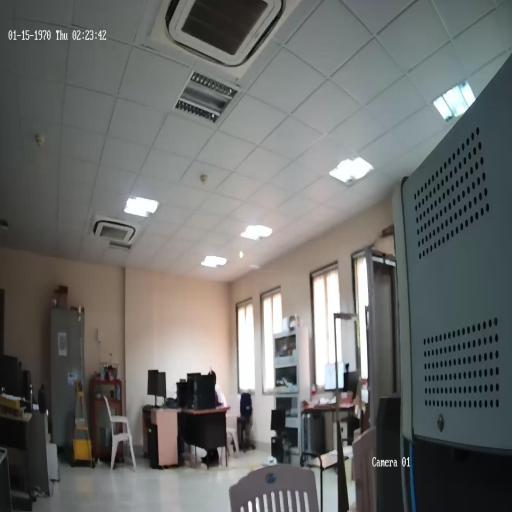laser: (239, 250, 244, 258)
